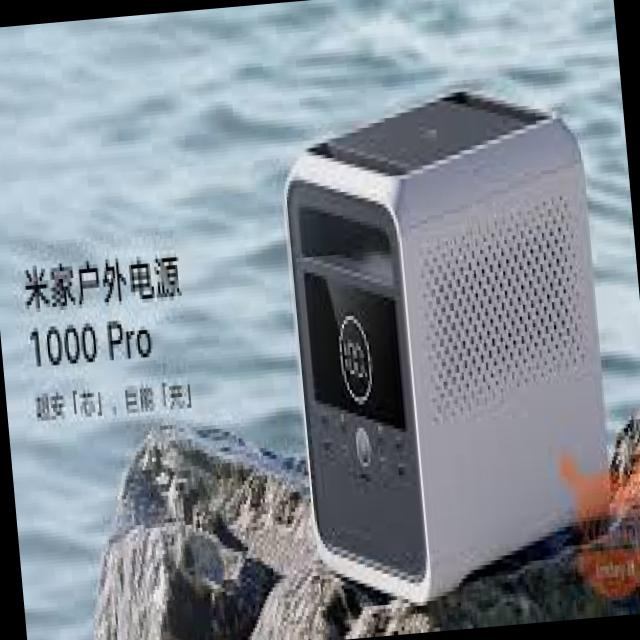power_bank: (274, 76, 622, 614)
